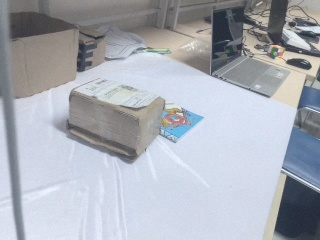book: (159, 100, 207, 143)
box: (67, 78, 164, 162), (8, 10, 81, 99), (75, 25, 107, 72)
mouse: (285, 58, 312, 70)
